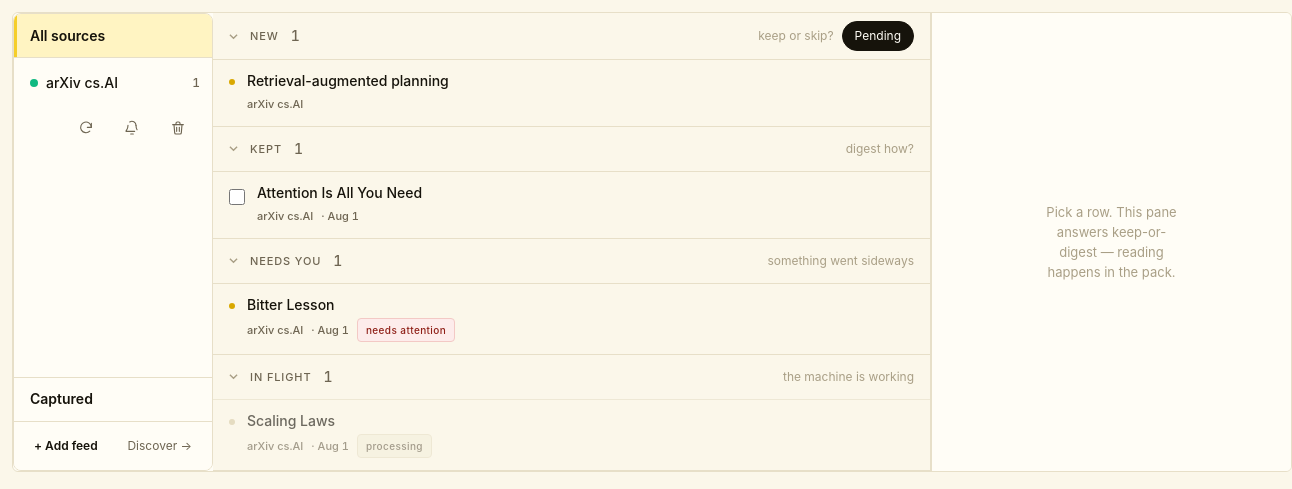
the rail owns source, the sections own stage › Captured hides New — ad-hoc intake has no stage 1
Check: the button "Retrieval-augmented planning" is shown, box left=247, top=72, right=791, bottom=91
Click the button "Captured" at [113, 399], box left=14, top=377, right=212, bottom=421
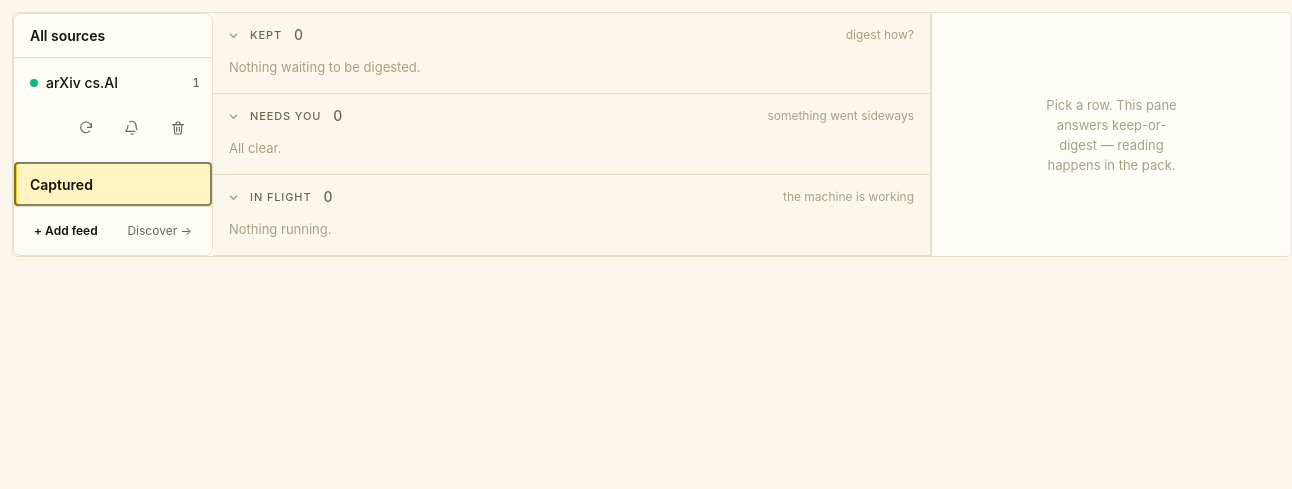
Check: the button "Retrieval-augmented planning" is gone
Check: the button "New" is gone
